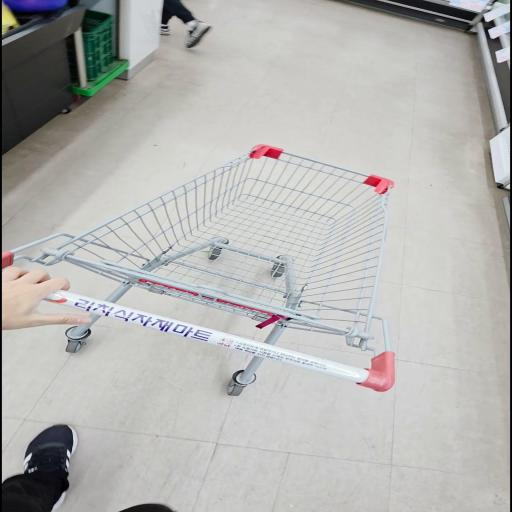empty_cart: (6, 145, 404, 392)
